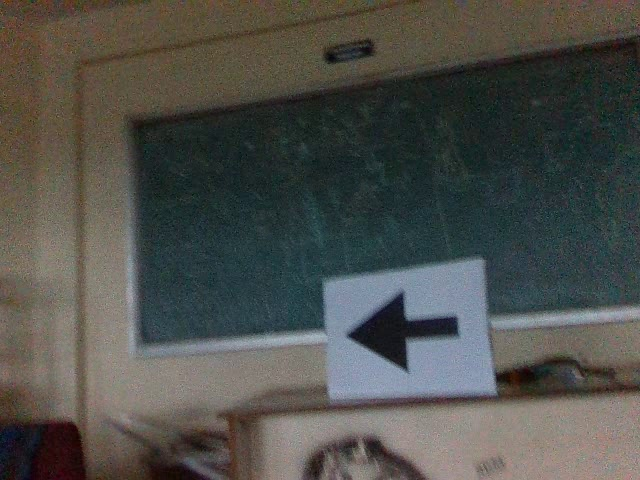Left: (343, 287, 465, 376)
